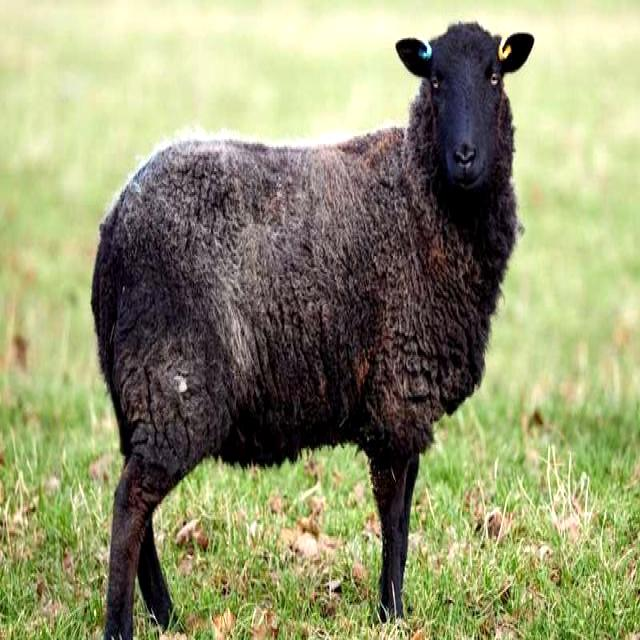sheep: (94, 20, 537, 640)
